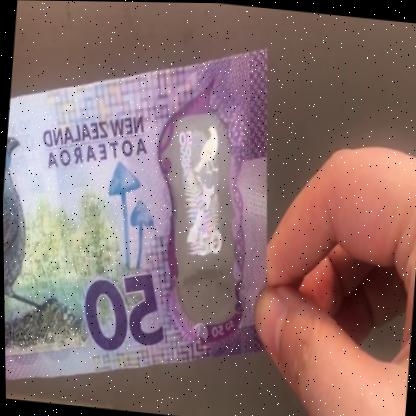50B: (165, 120, 254, 302)
